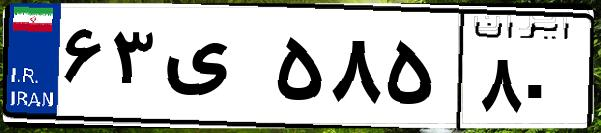0: (525, 38, 570, 115)
3: (110, 28, 158, 98)
5: (270, 28, 330, 110), (385, 28, 445, 110)
6: (57, 26, 110, 100)
8: (330, 28, 385, 110), (475, 38, 525, 113)
ی: (158, 20, 270, 120)
